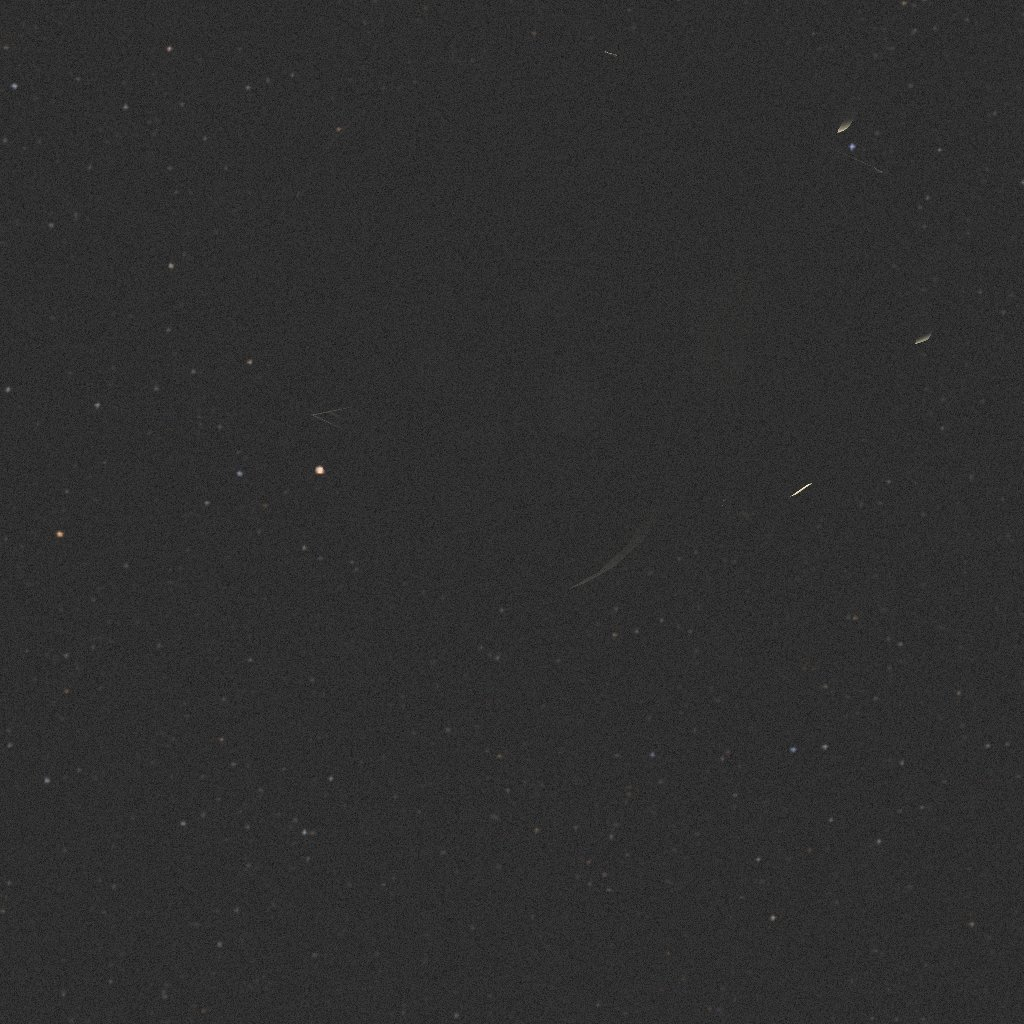proba_3_ocs: (255, 18, 932, 600)
